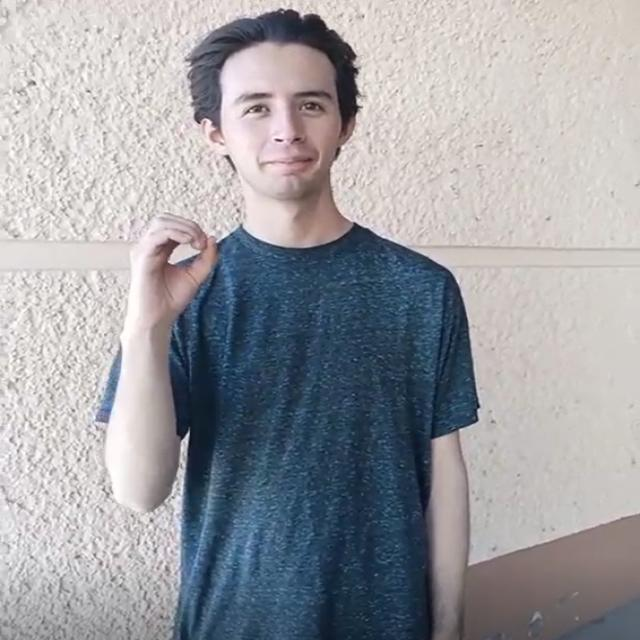O: (98, 182, 246, 326)
